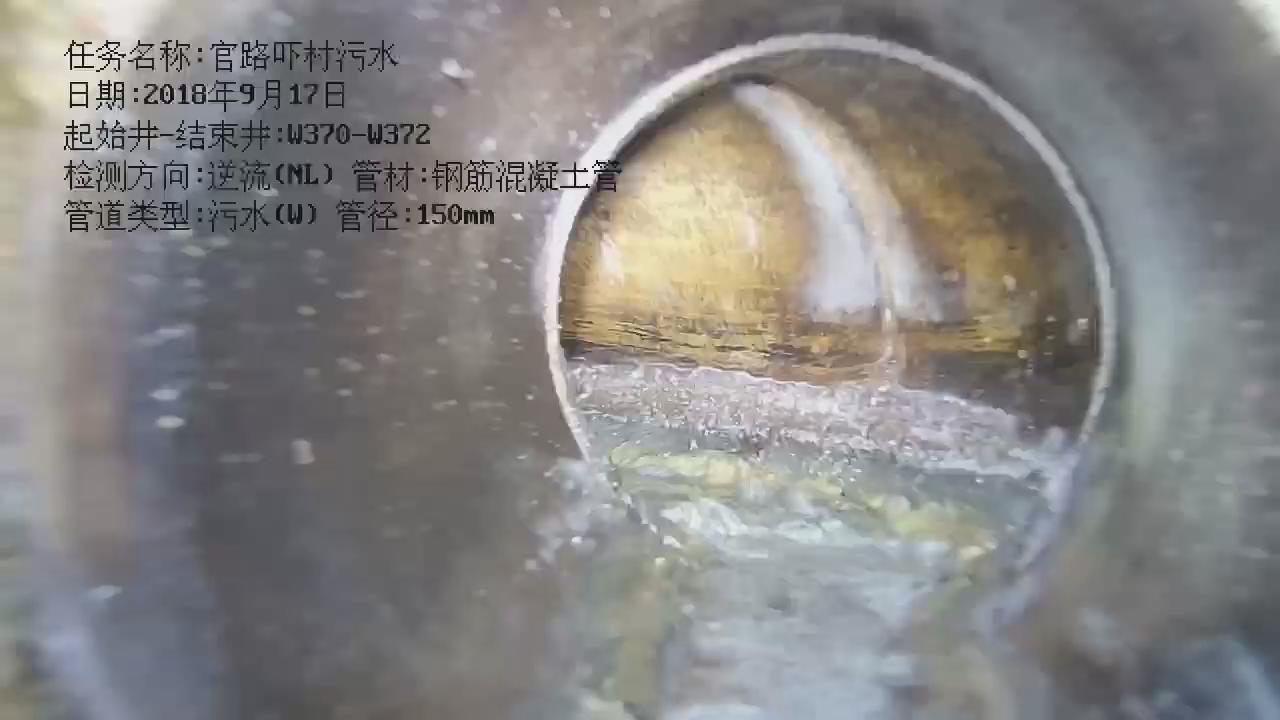CKTJ: (531, 25, 1125, 582)
